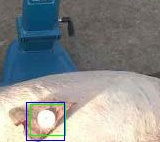text: (30, 104, 65, 135)
